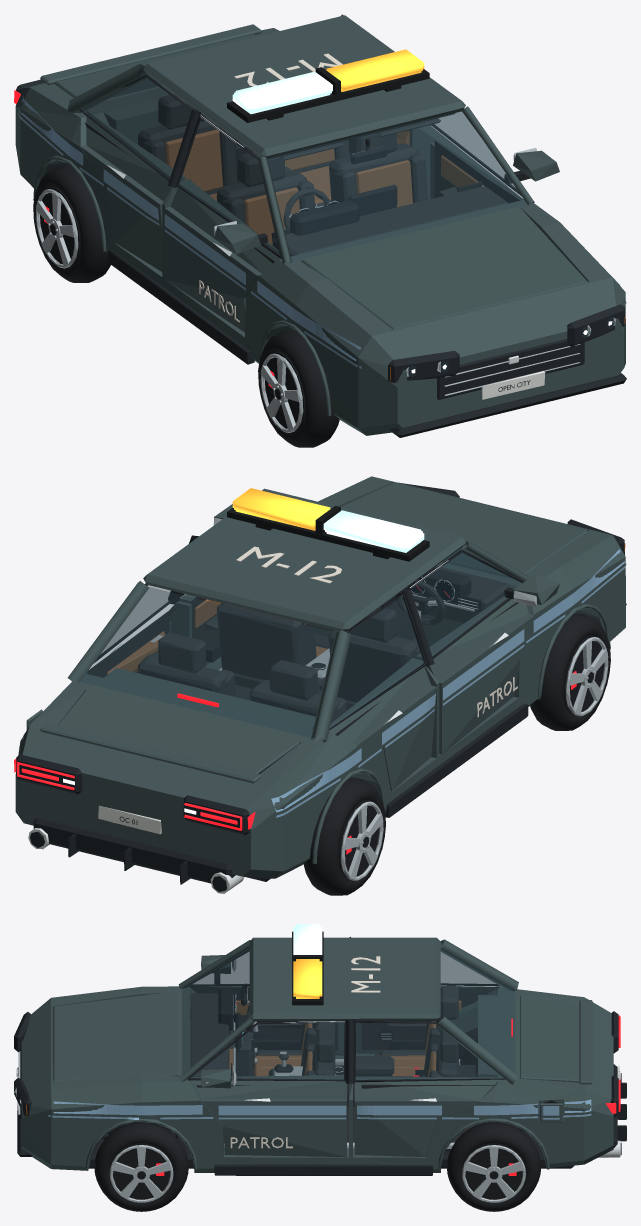
The model's file is oc_police_sedan_01.glb.
3 renders of one model, top to bottom at view 1: azimuth 30°, elevation 25°; view 2: azimuth 150°, elevation 25°; view 3: azimuth 270°, elevation 25°, orthographic. The views are drawn at different scales.
Parts seen in each view (by area): view 1: OC_Sedan_01_RenderMesh, Hood_RenderMesh, Door_FL_RenderMesh, Door_RL_RenderMesh, Wheel_FL_RenderMesh, Wheel_RL_RenderMesh, Door_FR_RenderMesh, Trunk_RenderMesh, LightbarLensA, LightbarLensB, Livery_L_OC_Police_Sedan_01_OC_Livery_Accent, LightbarBase (+2 smaller); view 2: OC_Sedan_01_RenderMesh, Door_FL_RenderMesh, Door_RL_RenderMesh, Trunk_RenderMesh, Hood_RenderMesh, Wheel_RL_RenderMesh, Wheel_FL_RenderMesh, Door_RR_RenderMesh, LightbarLensA, LightbarLensB, Livery_L_OC_Police_Sedan_01_OC_Livery_Accent, LightbarBase (+4 smaller); view 3: OC_Sedan_01_RenderMesh, Door_FR_RenderMesh, Door_RR_RenderMesh, Hood_RenderMesh, Wheel_FR_RenderMesh, Wheel_RR_RenderMesh, Trunk_RenderMesh, Door_RL_RenderMesh, Door_FL_RenderMesh, Livery_R_OC_Police_Sedan_01_OC_Livery_Accent, Livery_R_Door_FR_OC_Livery_Accent, LightbarLensB (+6 smaller).
Part boxes in pixels (left/top/right/bottom): OC_Sedan_01_RenderMesh: left=14, top=14, right=626, bottom=437; Hood_RenderMesh: left=301, top=206, right=587, bottom=329; Door_FL_RenderMesh: left=164, top=115, right=281, bottom=332; Door_RL_RenderMesh: left=78, top=74, right=192, bottom=271; Wheel_FL_RenderMesh: left=258, top=330, right=339, bottom=447; Wheel_RL_RenderMesh: left=33, top=165, right=110, bottom=282; Door_FR_RenderMesh: left=419, top=111, right=559, bottom=203; Trunk_RenderMesh: left=40, top=24, right=261, bottom=101; LightbarLensA: left=232, top=71, right=332, bottom=114; LightbarLensB: left=326, top=49, right=424, bottom=91; Livery_L_OC_Police_Sedan_01_OC_Livery_Accent: left=18, top=95, right=361, bottom=360; LightbarBase: left=227, top=69, right=429, bottom=122; OC_Sedan_01_RenderMesh: left=14, top=476, right=626, bottom=893; Door_FL_RenderMesh: left=409, top=550, right=559, bottom=754; Door_RL_RenderMesh: left=329, top=593, right=437, bottom=791; Trunk_RenderMesh: left=40, top=690, right=299, bottom=783; Hood_RenderMesh: left=341, top=483, right=587, bottom=577; Wheel_RL_RenderMesh: left=303, top=778, right=385, bottom=895; Wheel_FL_RenderMesh: left=530, top=613, right=610, bottom=730; Door_RR_RenderMesh: left=86, top=583, right=179, bottom=677; LightbarLensA: left=323, top=510, right=424, bottom=552; LightbarLensB: left=232, top=488, right=330, bottom=530; Livery_L_OC_Police_Sedan_01_OC_Livery_Accent: left=271, top=549, right=624, bottom=812; LightbarBase: left=227, top=508, right=429, bottom=561; OC_Sedan_01_RenderMesh: left=14, top=937, right=626, bottom=1175; Door_FR_RenderMesh: left=187, top=1021, right=346, bottom=1157; Door_RR_RenderMesh: left=354, top=1021, right=505, bottom=1156; Hood_RenderMesh: left=53, top=991, right=179, bottom=1081; Wheel_FR_RenderMesh: left=94, top=1122, right=188, bottom=1211; Wheel_RR_RenderMesh: left=447, top=1122, right=541, bottom=1211; Trunk_RenderMesh: left=520, top=996, right=592, bottom=1084; Door_RL_RenderMesh: left=356, top=952, right=500, bottom=1053; Door_FL_RenderMesh: left=189, top=949, right=343, bottom=1055; Livery_R_OC_Police_Sedan_01_OC_Livery_Accent: left=53, top=1099, right=591, bottom=1115; Livery_R_Door_FR_OC_Livery_Accent: left=218, top=1105, right=346, bottom=1115; LightbarLensB: left=293, top=959, right=322, bottom=998.
Size of the model in its own units: 2.23 by 1.68 by 4.61.
